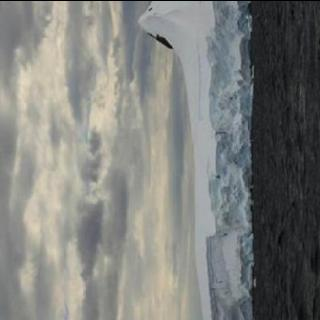Nimbostratus: (1, 0, 142, 320)
